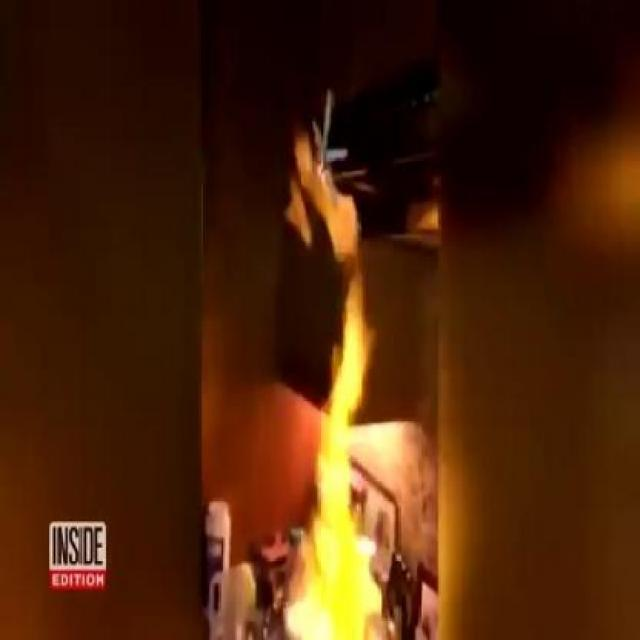fire: (294, 412, 382, 634), (296, 192, 375, 392)
